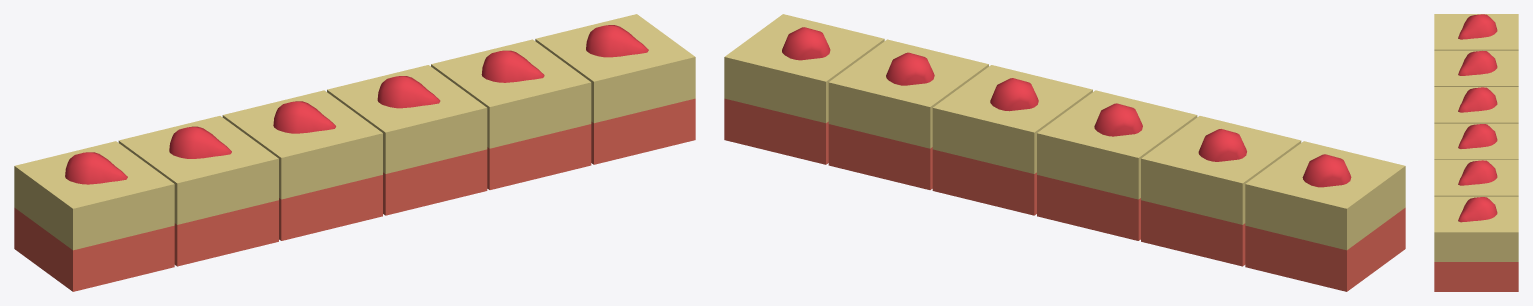
The model's file is cake_red_6.fbx.
3 views of the same model, side by side, from view 1: azimuth 30°, elevation 25°; view 2: azimuth 150°, elevation 25°; view 3: azimuth 270°, elevation 25° (orthographic). The views are drawn at different scales.
Parts seen in each view (by area): view 1: 立方体.027; view 2: 立方体.027; view 3: 立方体.027.
Boxes of the visible parts, x1=… form: 立方体.027: x1=14, y1=14, x2=695, y2=291; 立方体.027: x1=724, y1=14, x2=1405, y2=291; 立方体.027: x1=1434, y1=14, x2=1518, y2=291.
Bounding box in the file's own units: 89.42 × 14.37 × 14.6.
